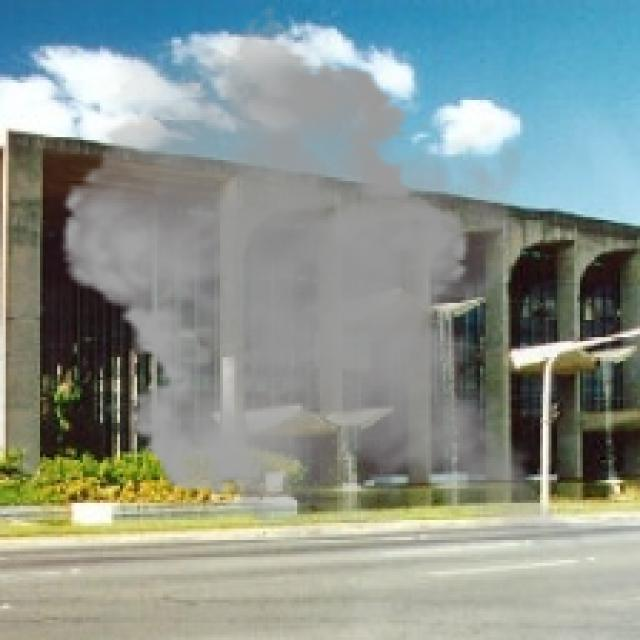Smoke: (46, 3, 614, 560)
